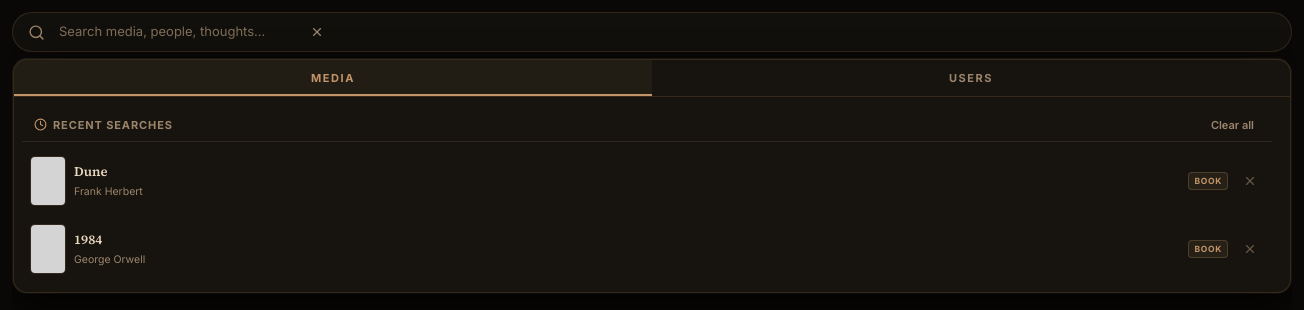
Test: recent search functionality › clears all recent searches when Clear all is clicked
This screenshot has width=1304, height=310.
Expected: the text "Recent Searches" is shown, [53,116,173,133]
Click the button "Clear all" at (1232, 125), box [1205,114,1260,135]
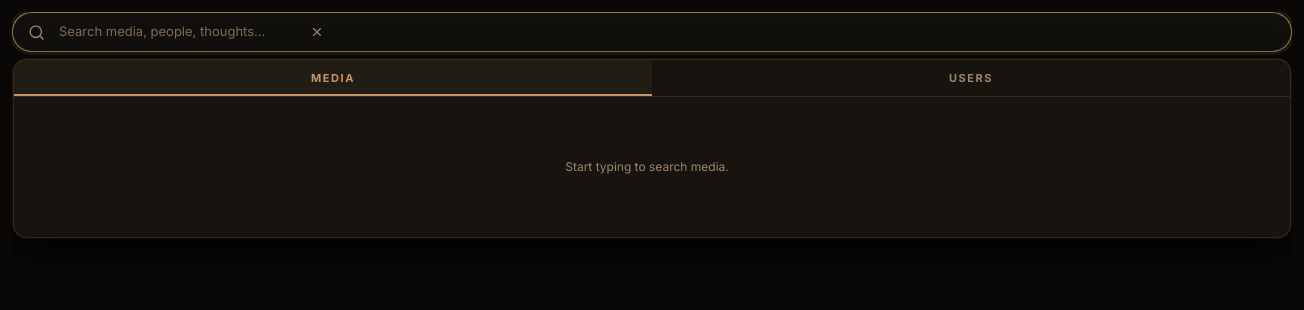
Result: the text "Recent Searches" is gone
Result: the button "Dune" is gone
Result: the button "1984" is gone
